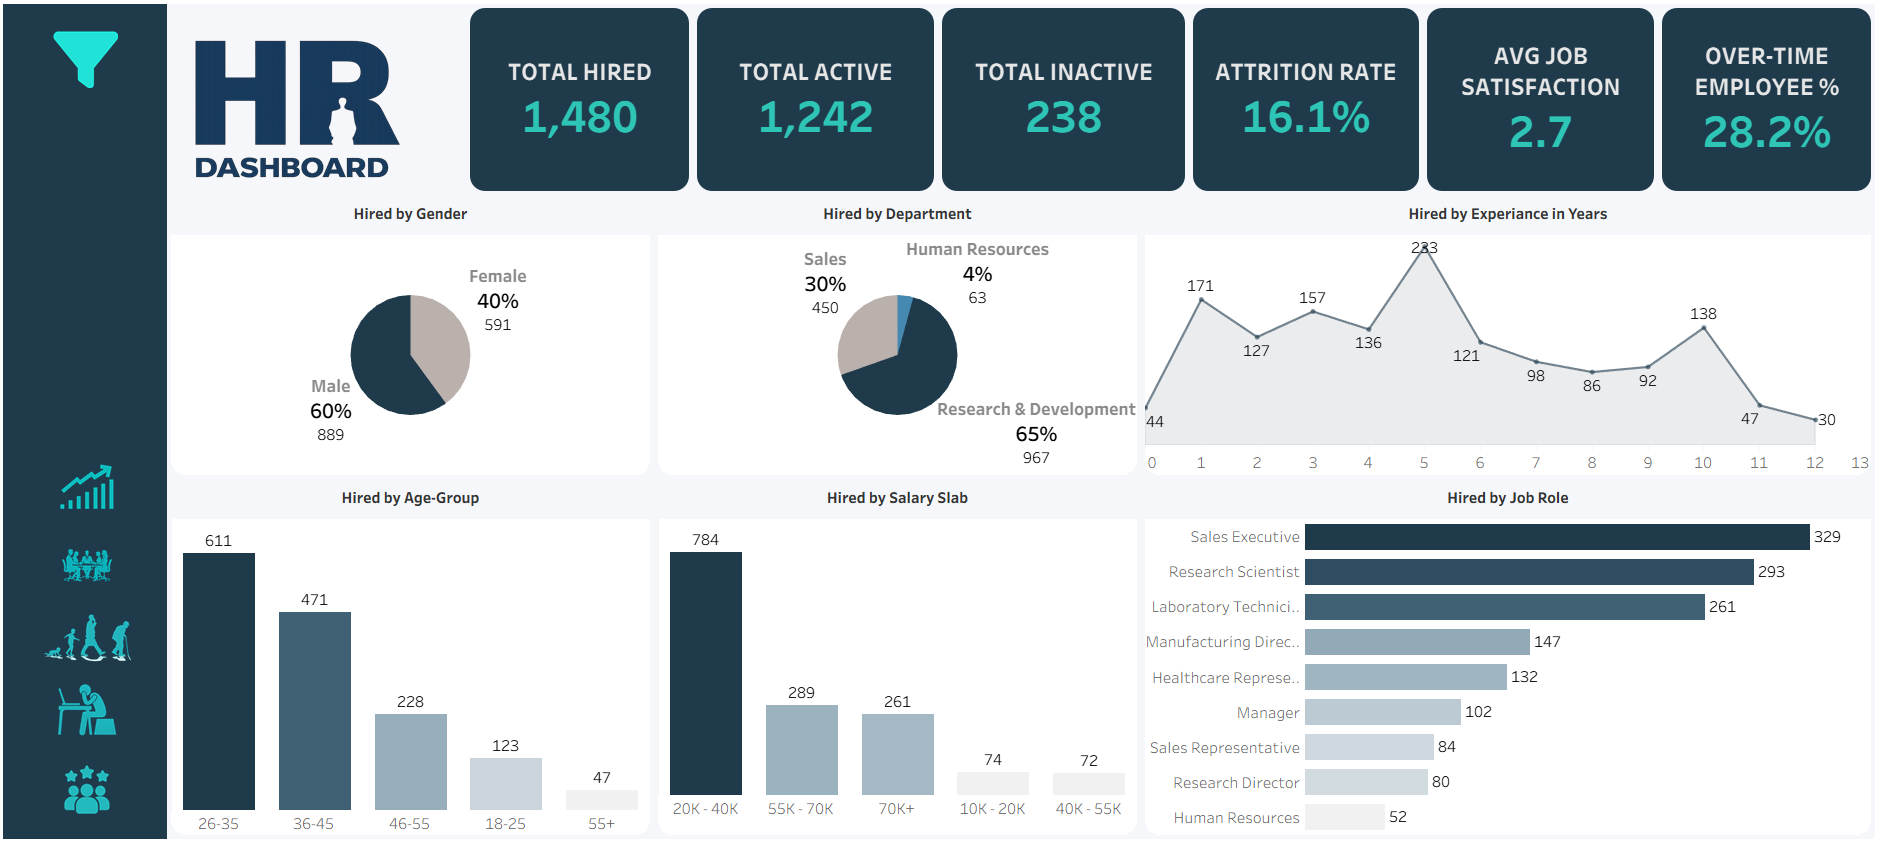

Layout of this report page (visuals, bound fields, positions):
{"tool":"tableau","page":{"name":"HR Dashboard","canvas":[1000,1000],"units":"permille","ordinal":3},"visuals":[{"type":"image","param":"Image/Dashboard.png","box":[91.7,9.4,158.1,224.4]},{"type":"worksheet","title":"Hired","mark":"Automatic","box":[249.8,9.4,120.1,224.4]},{"type":"worksheet","title":"Active","mark":"Automatic","box":[369.9,9.4,129.8,224.4]},{"type":"worksheet","title":"Inactive","mark":"Automatic","box":[499.7,9.4,132.8,224.4]},{"type":"worksheet","title":"KPI-Attrition Rate","mark":"Automatic","box":[632.5,9.4,123.7,224.4]},{"type":"worksheet","title":"AVg Job Sat","mark":"Automatic","box":[756.2,9.4,124.3,224.4]},{"type":"worksheet","title":"Overtime Emp %","mark":"Automatic","box":[880.5,9.4,114.7,224.4]},{"type":"dashboard-object","box":[24.7,41.1,45.9,67]},{"type":"parameter","param":"[Parameters].[Parameter 1]","box":[7.9,135.1,80.3,123.4]},{"type":"worksheet","title":"P by Gender","mark":"Pie","box":[91.7,233.8,257.7,333.7]},{"type":"worksheet","title":"P by Department","mark":"Pie","box":[349.4,233.8,257.7,333.7]},{"type":"worksheet","title":"Line By P","mark":"Automatic","rows":["Calculation_0550582982975501","Calculation_0550582982975501"],"cols":["YearsAtCompany"],"box":[607.1,233.8,388.1,333.7]},{"type":"dashboard-object","box":[12.7,533.5,71.2,88.1]},{"type":"worksheet","title":"P by Age Group","mark":"Bar","rows":["Calculation_0550582982975501"],"cols":["AgeGroup"],"box":[91.7,567.5,257.6,423.1]},{"type":"worksheet","title":"P by Salary Slab","mark":"Bar","rows":["Calculation_0550582982975501"],"cols":["SalarySlab"],"box":[349.4,567.5,257.6,423.1]},{"type":"worksheet","title":"P by Job Role","mark":"Bar","rows":["JobRole"],"cols":["Calculation_0550582982975501"],"box":[607.1,567.6,388.1,423]},{"type":"dashboard-object","box":[12.7,621.6,71.2,88.1]},{"type":"dashboard-object","box":[12.7,709.8,71.2,88.1]},{"type":"dashboard-object","box":[12.7,797.9,71.2,88.1]},{"type":"dashboard-object","box":[12.7,886,71.2,88.1]}]}

Visuals, with their boxes on the dashboard's canvas, which has no fixed pixel size, in thousandths of its width and height (x1, y1, x2, y2). These are canvas units, not pixel positions in the 1878x842 screenshot, which may show the page scaled, cropped or inside an application window:
image: [left=92, top=9, right=250, bottom=234]
"Hired" worksheet: [left=250, top=9, right=370, bottom=234]
"Active" worksheet: [left=370, top=9, right=500, bottom=234]
"Inactive" worksheet: [left=500, top=9, right=632, bottom=234]
"KPI-Attrition Rate" worksheet: [left=632, top=9, right=756, bottom=234]
"AVg Job Sat" worksheet: [left=756, top=9, right=880, bottom=234]
"Overtime Emp %" worksheet: [left=880, top=9, right=995, bottom=234]
dashboard-object: [left=25, top=41, right=71, bottom=108]
parameter: [left=8, top=135, right=88, bottom=258]
"P by Gender" worksheet (Pie marks): [left=92, top=234, right=349, bottom=568]
"P by Department" worksheet (Pie marks): [left=349, top=234, right=607, bottom=568]
"Line By P" worksheet: [left=607, top=234, right=995, bottom=568]
dashboard-object: [left=13, top=534, right=84, bottom=622]
"P by Age Group" worksheet (Bar marks): [left=92, top=568, right=349, bottom=991]
"P by Salary Slab" worksheet (Bar marks): [left=349, top=568, right=607, bottom=991]
"P by Job Role" worksheet (Bar marks): [left=607, top=568, right=995, bottom=991]
dashboard-object: [left=13, top=622, right=84, bottom=710]
dashboard-object: [left=13, top=710, right=84, bottom=798]
dashboard-object: [left=13, top=798, right=84, bottom=886]
dashboard-object: [left=13, top=886, right=84, bottom=974]
